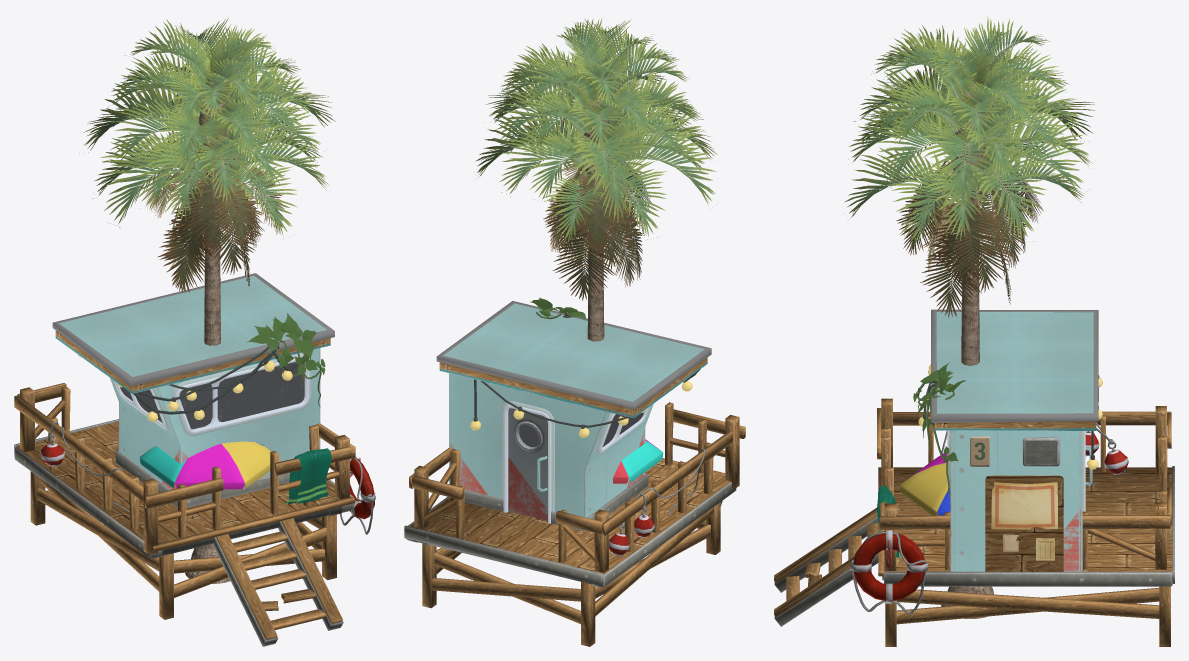
The model's file is cst_beach.glb.
The picture shows the model from 3 angles, left to right: view 1: azimuth 30°, elevation 25°; view 2: azimuth 150°, elevation 25°; view 3: azimuth 270°, elevation 25°; orthographic projection. The views are drawn at different scales.
Parts seen in each view (by area): view 1: lifeguard, palm, umbrella; view 2: lifeguard, palm, umbrella; view 3: lifeguard, palm, umbrella.
Boxes of the visible parts, left/top/right/bottom form: lifeguard: left=14, top=273, right=375, bottom=646; palm: left=79, top=18, right=335, bottom=583; umbrella: left=139, top=441, right=279, bottom=489; lifeguard: left=404, top=297, right=745, bottom=646; palm: left=475, top=18, right=717, bottom=341; umbrella: left=613, top=439, right=663, bottom=483; lifeguard: left=774, top=309, right=1174, bottom=646; palm: left=843, top=16, right=1094, bottom=618; umbrella: left=900, top=453, right=950, bottom=515.
Bounding box in the file's own units: 4.45 × 10 × 6.29.
5 materials, 4 textured.
